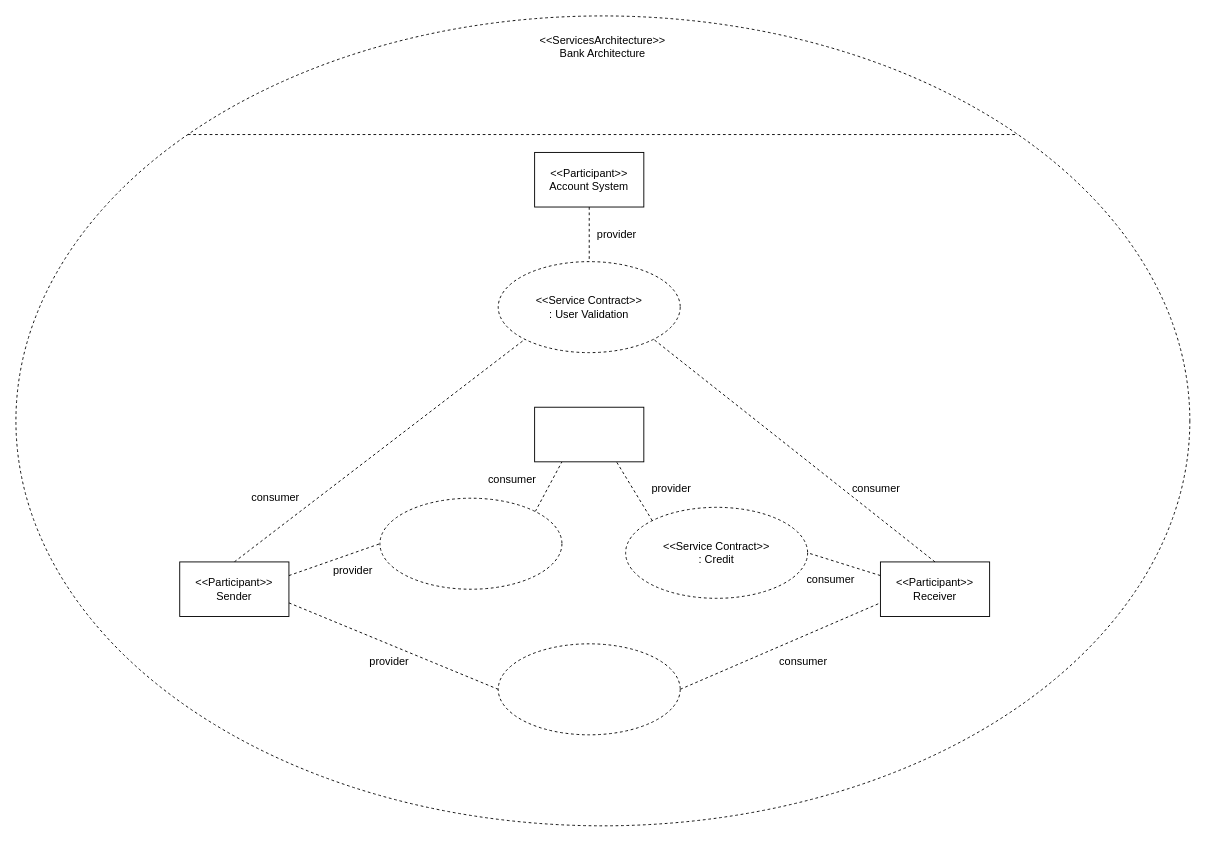
This 1206x842 diagram has some shape labels left out. Here are the shapes that lost their labels. From the top down, the centre of each, then its label:
At point (589, 434): "<<Participant>> Bank".
At point (470, 543): "<<Service Contract>> : Debit".
At point (588, 689): "<<Service Contract>> : Transfer".
